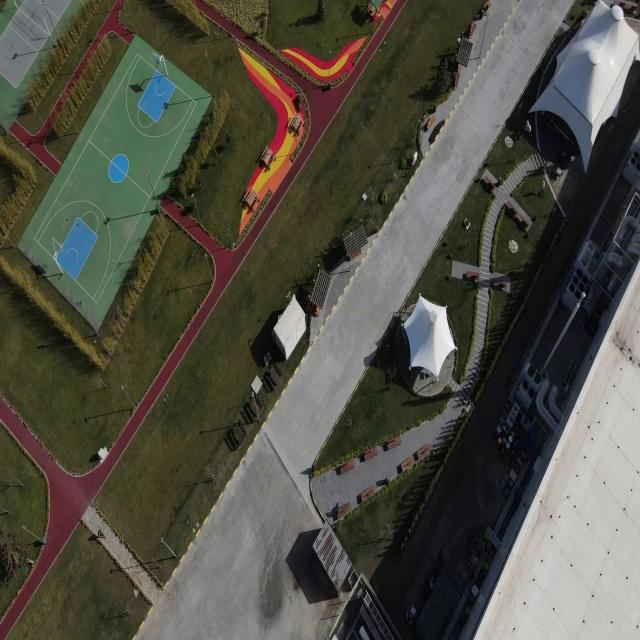p3rson: (539, 179, 546, 199), (98, 529, 105, 539)
